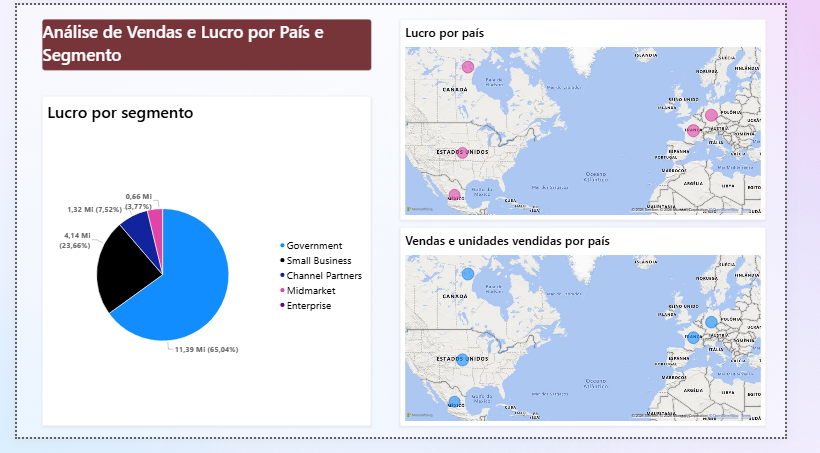

This screenshot's page, from the dashboard's own definition file:
{"tool":"powerbi","page":{"name":"Análise por país e segmento","canvas":[1920,1080],"ordinal":2},"visuals":[{"type":"pieChart","title":"Lucro por segmento","fields":{"Category":["financials.Segment"],"Y":["Sum(financials.Profit)"]},"box":[62.5,227.5,822.5,825],"z":0},{"type":"map","title":"Vendas e unidades vendidas por país","fields":{"Category":["financials.Country"],"Size":["Sum(financials. Sales)"]},"box":[957.5,555,915,497.5],"z":1000},{"type":"map","title":"Lucro por país","fields":{"Category":["financials.Country"],"Size":["Sum(financials.Profit)"]},"box":[957.5,35,915,502.5],"z":2000},{"type":"textbox","title":"Análise de Vendas e Lucro por País e Segmento","box":[62.7,35.3,823.5,129.4],"z":3000}]}

Visuals, with their boxes in screenshot pixels (x1, y1, x2, y2), scaled from the page's 1920x1080 canvas onto the 820x453 screenshot:
"Lucro por segmento" pieChart: (x1=27, y1=95, x2=378, y2=441)
"Vendas e unidades vendidas por país" map: (x1=409, y1=233, x2=800, y2=441)
"Lucro por país" map: (x1=409, y1=15, x2=800, y2=225)
"Análise de Vendas e Lucro por País e Segmento" textbox: (x1=27, y1=15, x2=378, y2=69)
